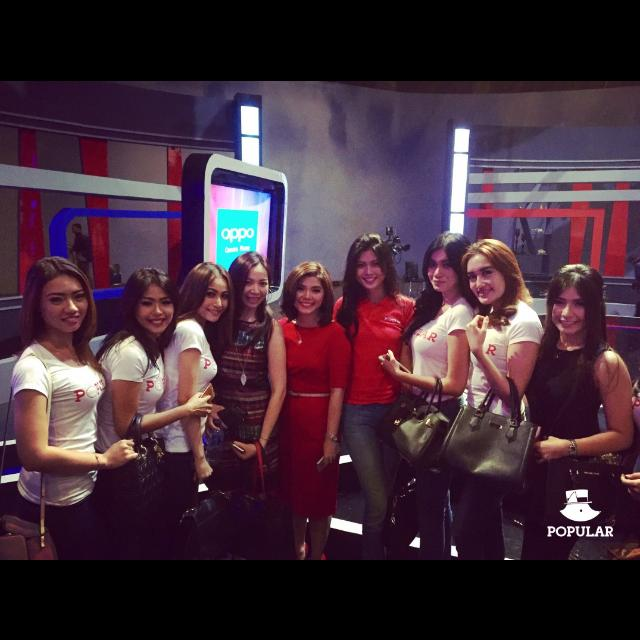head: (30, 255, 90, 332), (550, 264, 604, 336), (466, 240, 516, 306), (128, 266, 176, 334), (426, 231, 474, 293), (188, 261, 230, 323), (227, 251, 271, 309), (288, 262, 330, 314), (351, 237, 389, 289)
